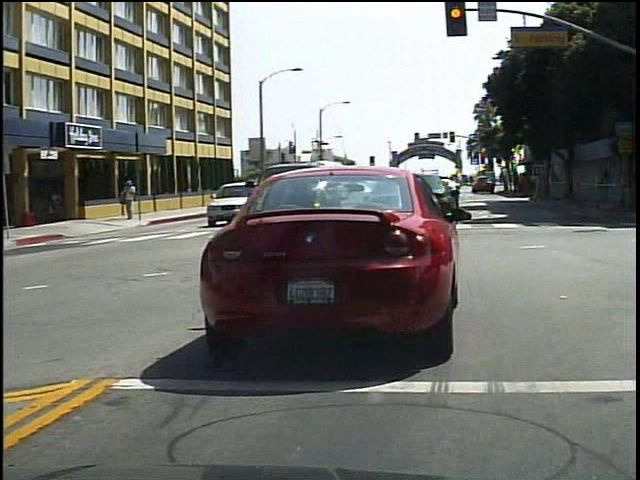person: (120, 175, 142, 223)
